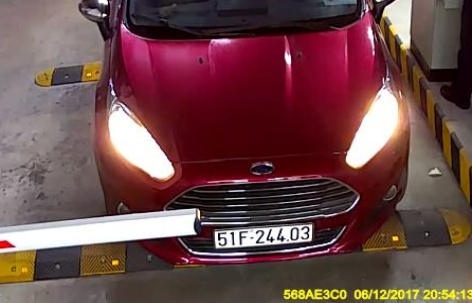plate: (208, 219, 315, 248)
